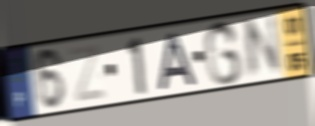1: (126, 34, 147, 98)
6: (35, 46, 67, 112)
A: (155, 30, 199, 93)
G: (203, 18, 244, 88)
N: (242, 12, 284, 83)
Z: (66, 41, 109, 106)
